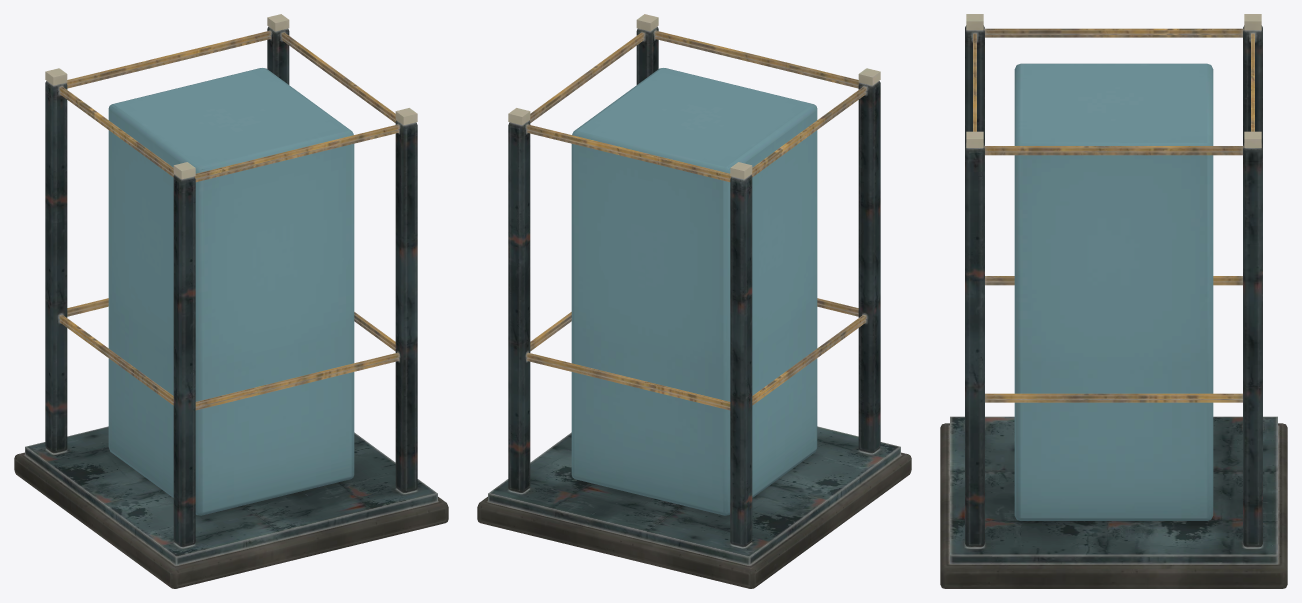
File: elevator.glb
3 renders of one model, left to right at view 1: azimuth 30°, elevation 25°; view 2: azimuth 150°, elevation 25°; view 3: azimuth 270°, elevation 25°, orthographic. The views are drawn at different scales.
Parts seen in each view (by area): view 1: te_elevator; view 2: te_elevator; view 3: te_elevator.
Boxes of the visible parts, box(x1,y1,x2,y2) form: te_elevator: box(14, 14, 448, 588); te_elevator: box(477, 14, 911, 588); te_elevator: box(940, 14, 1287, 588).
Size of the model in its own units: 0.7 by 0.98 by 0.7.
1 material, 1 textured.
